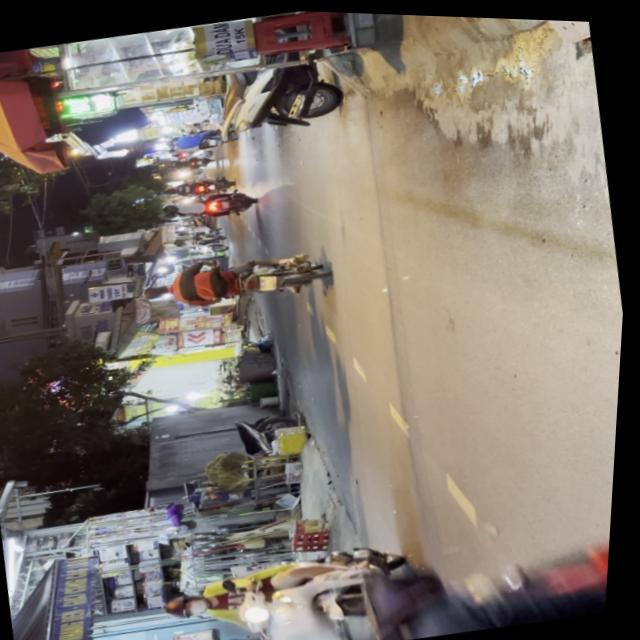helmet: (168, 589, 218, 621)
licenseplate: (40, 495, 617, 640), (159, 522, 453, 640), (138, 237, 335, 320)
motorcyclist: (143, 281, 175, 301)
nohelmet: (259, 271, 280, 290)
